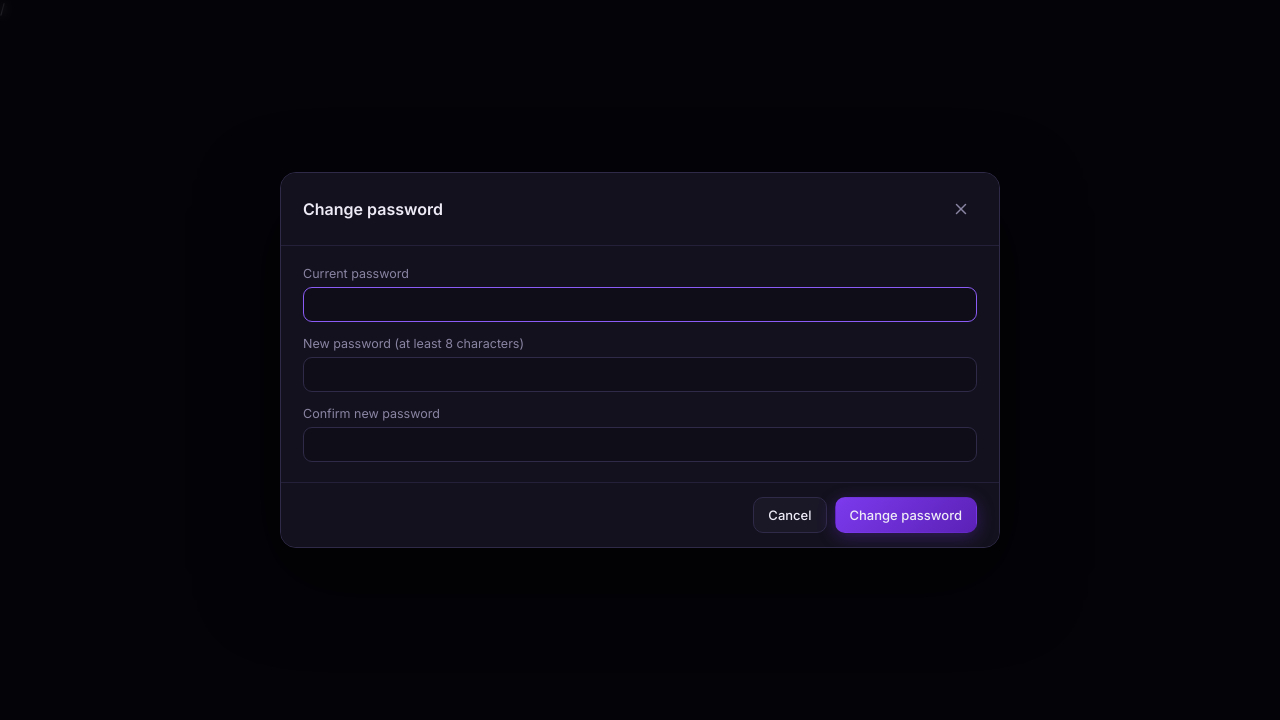
it: ChangePasswordDialog › mismatched confirmation shows an error and sends nothing
In the password field labelled "Current password": [640, 304] box [303,287,977,322], type "old-pass-1"
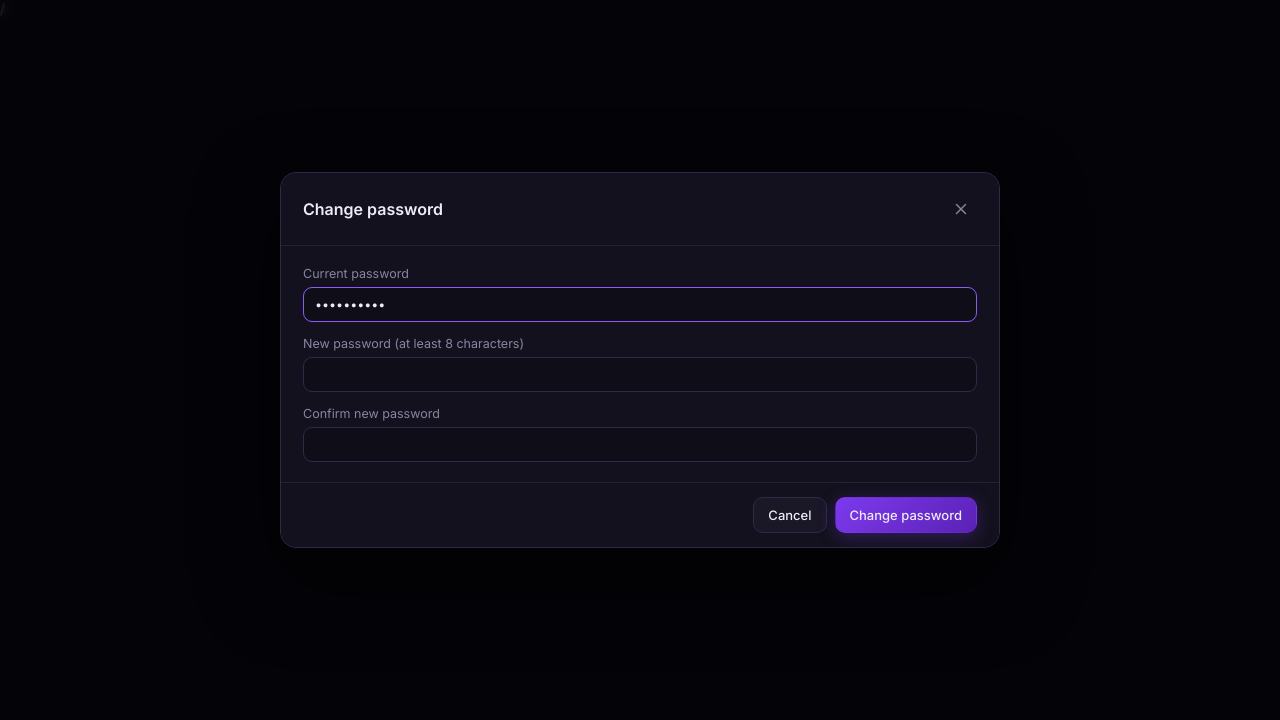
In the password field labelled "New password (at least 8 characters)": [640, 374] box [303,357,977,392], type "new-pass-22"
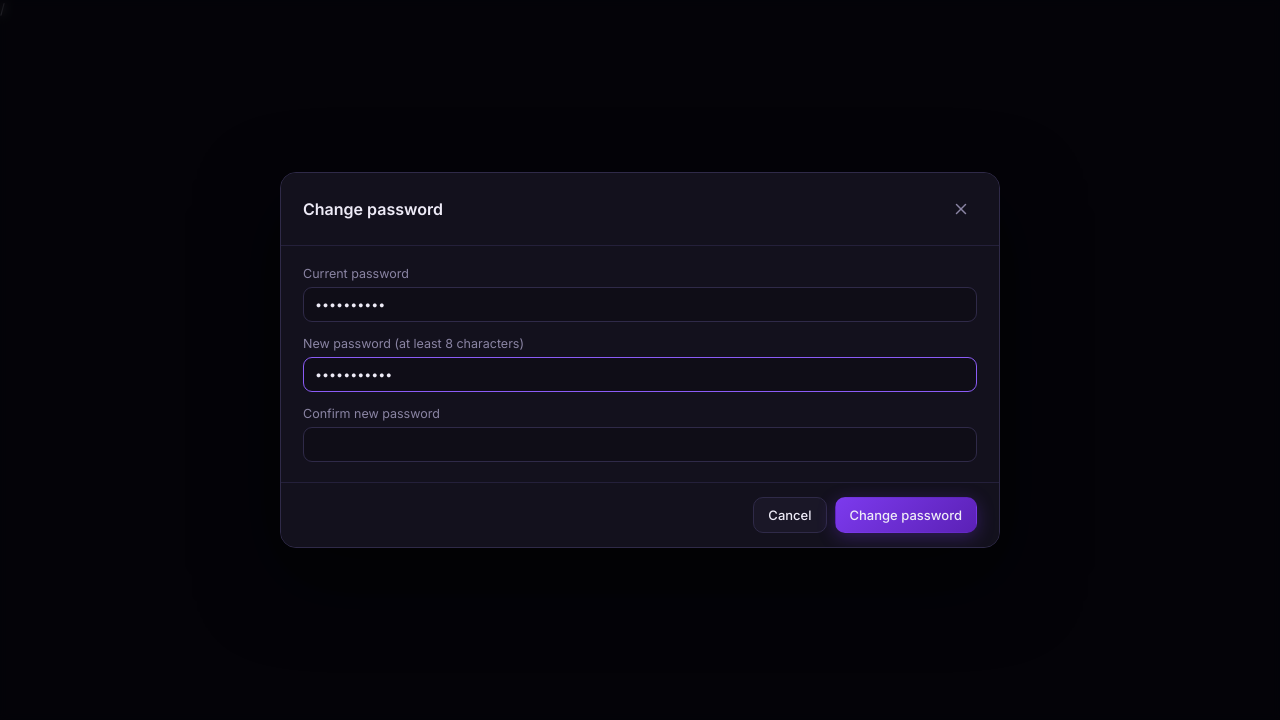
In the password field labelled "Confirm new password": [640, 444] box [303,427,977,462], type "new-pass-23"
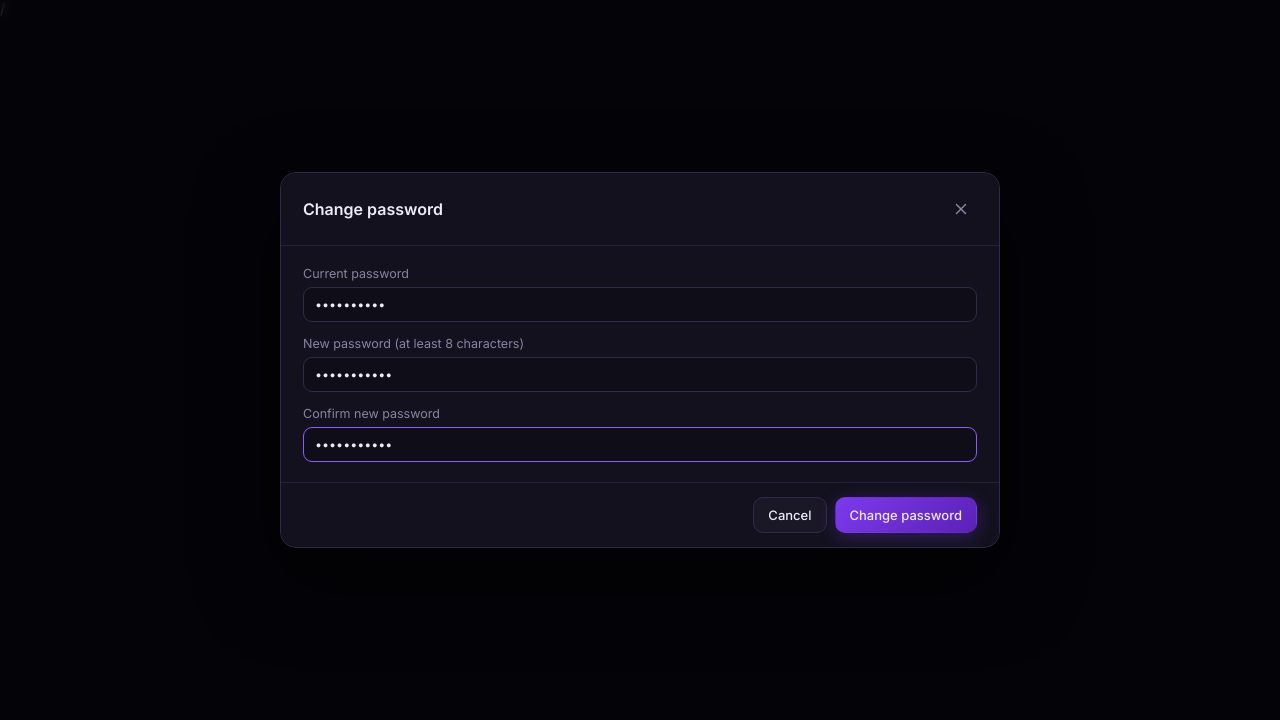
Click the button "Change password": [906, 515] box [834,497,977,533]
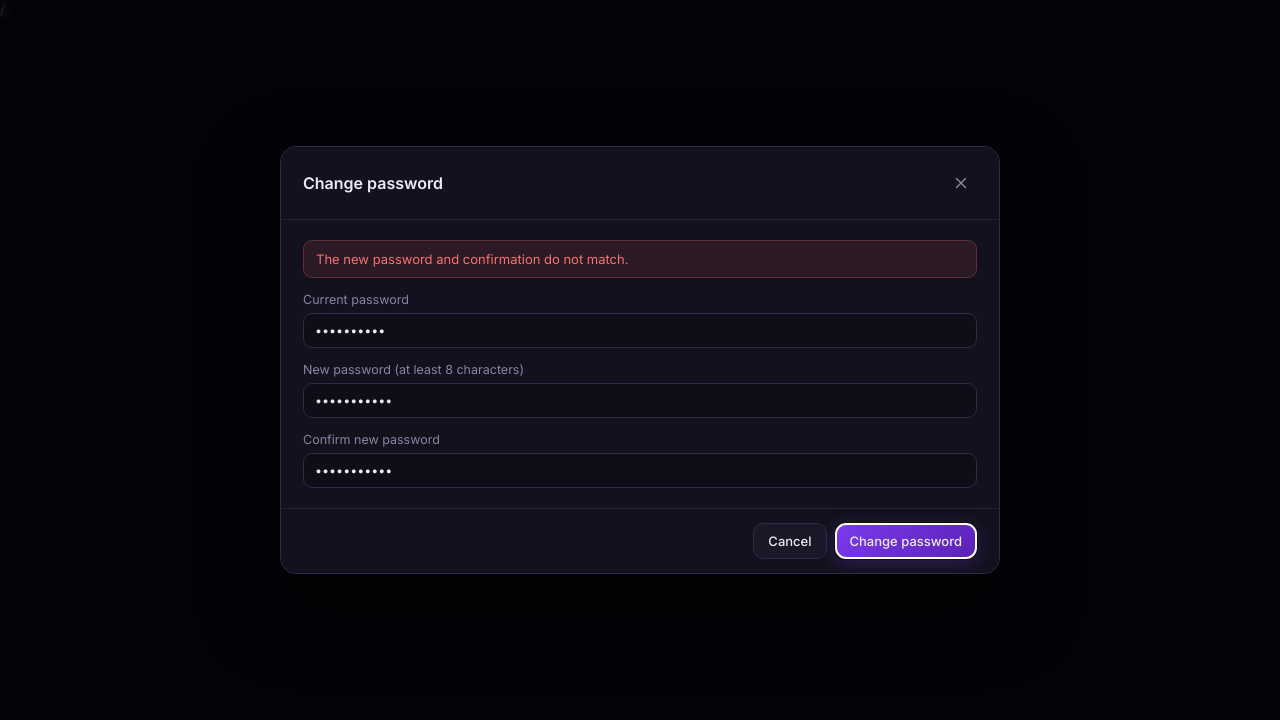
Now the message shows "do not match", box [316,251,628,267]
